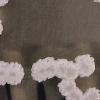white: (73, 53, 97, 78), (6, 59, 26, 87), (29, 58, 46, 84), (57, 79, 77, 96), (43, 56, 56, 81), (63, 57, 77, 80), (64, 87, 84, 100), (0, 60, 9, 87), (54, 57, 65, 79), (83, 87, 100, 100), (0, 0, 10, 9), (0, 17, 4, 37), (89, 0, 100, 7)
